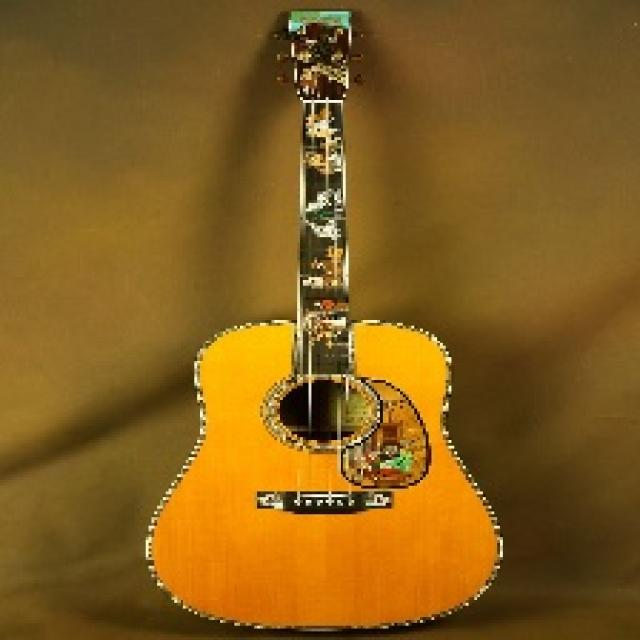guitar: (141, 6, 503, 631)
